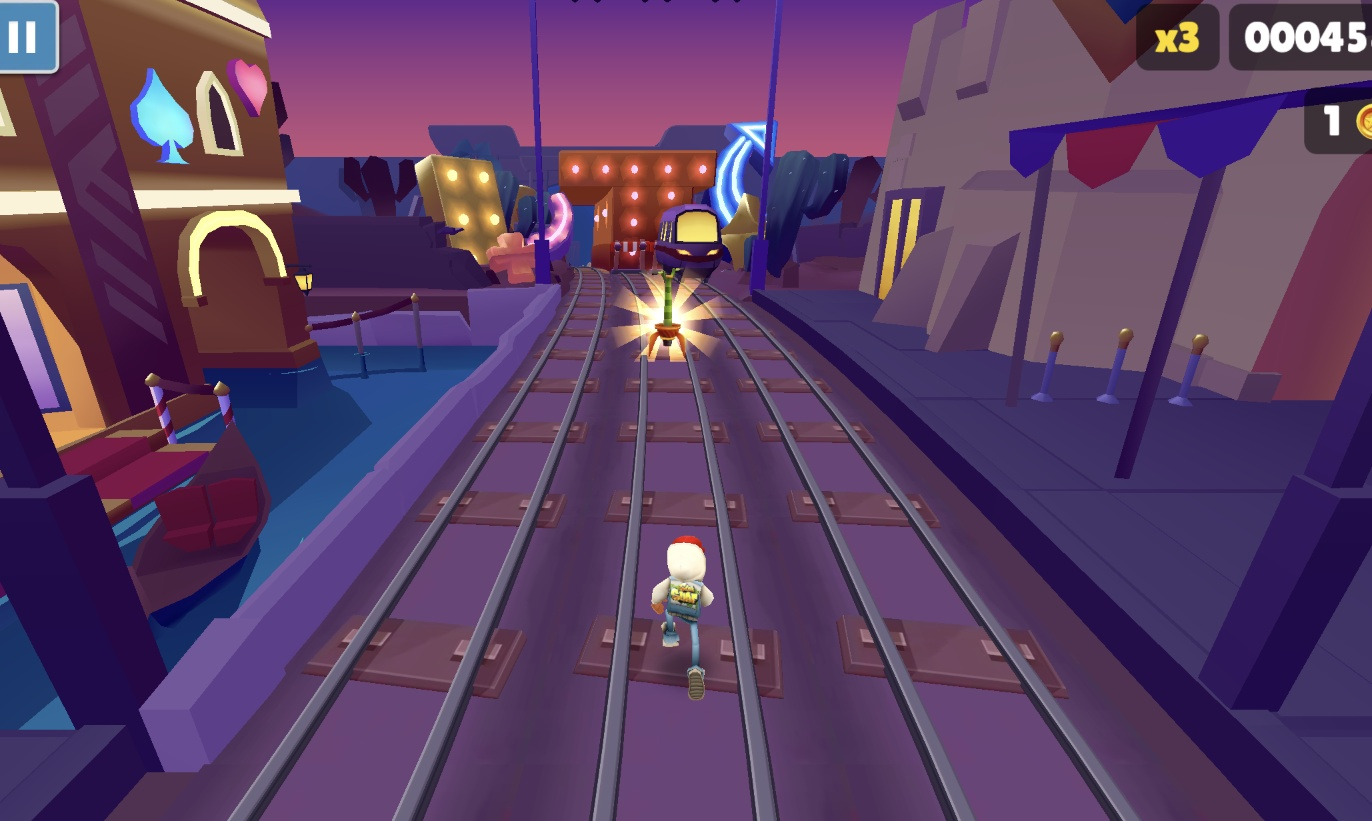ground_barrier: (605, 242, 649, 275)
pillar: (589, 196, 699, 277)
train: (657, 205, 729, 276)
